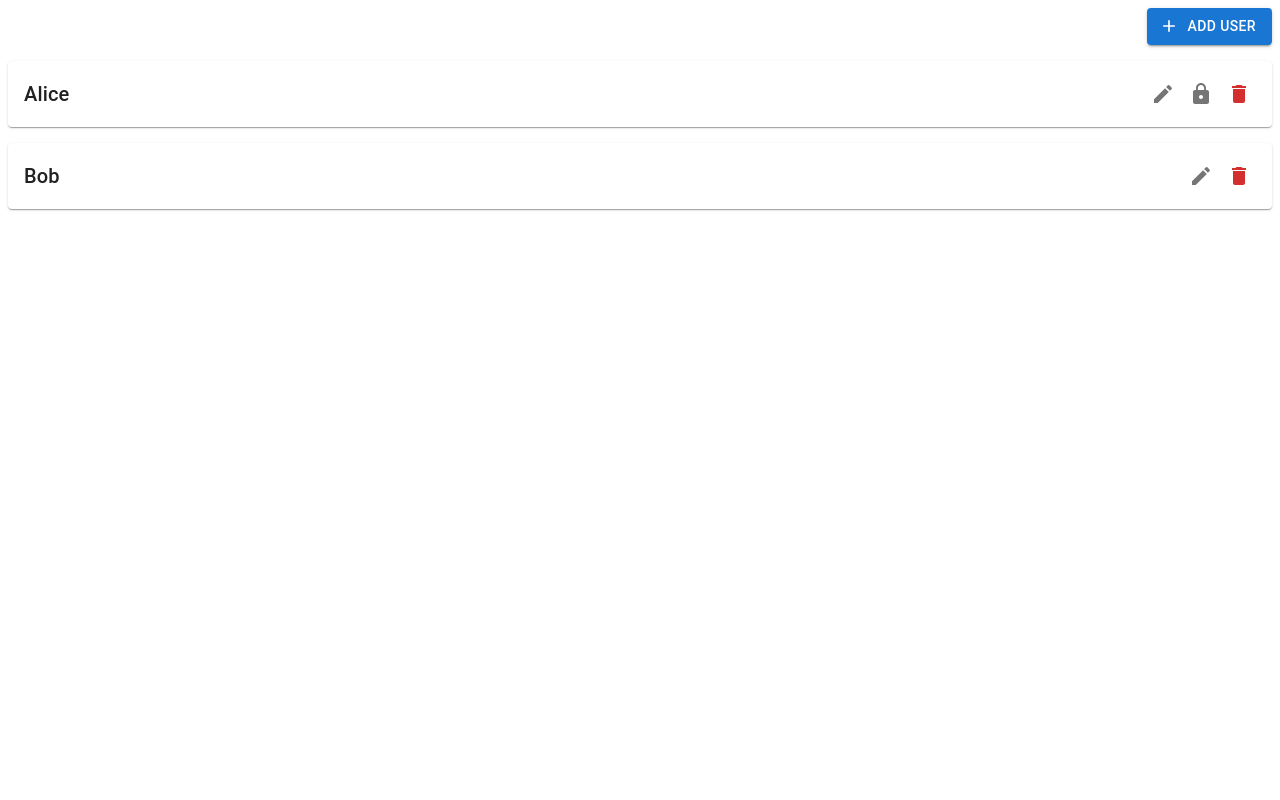
Test: Change Password › opens change password dialog when lock button is clicked
This screenshot has width=1280, height=800.
Click the button named "change password".
click(1201, 94)  # box [1184,76,1218,110]
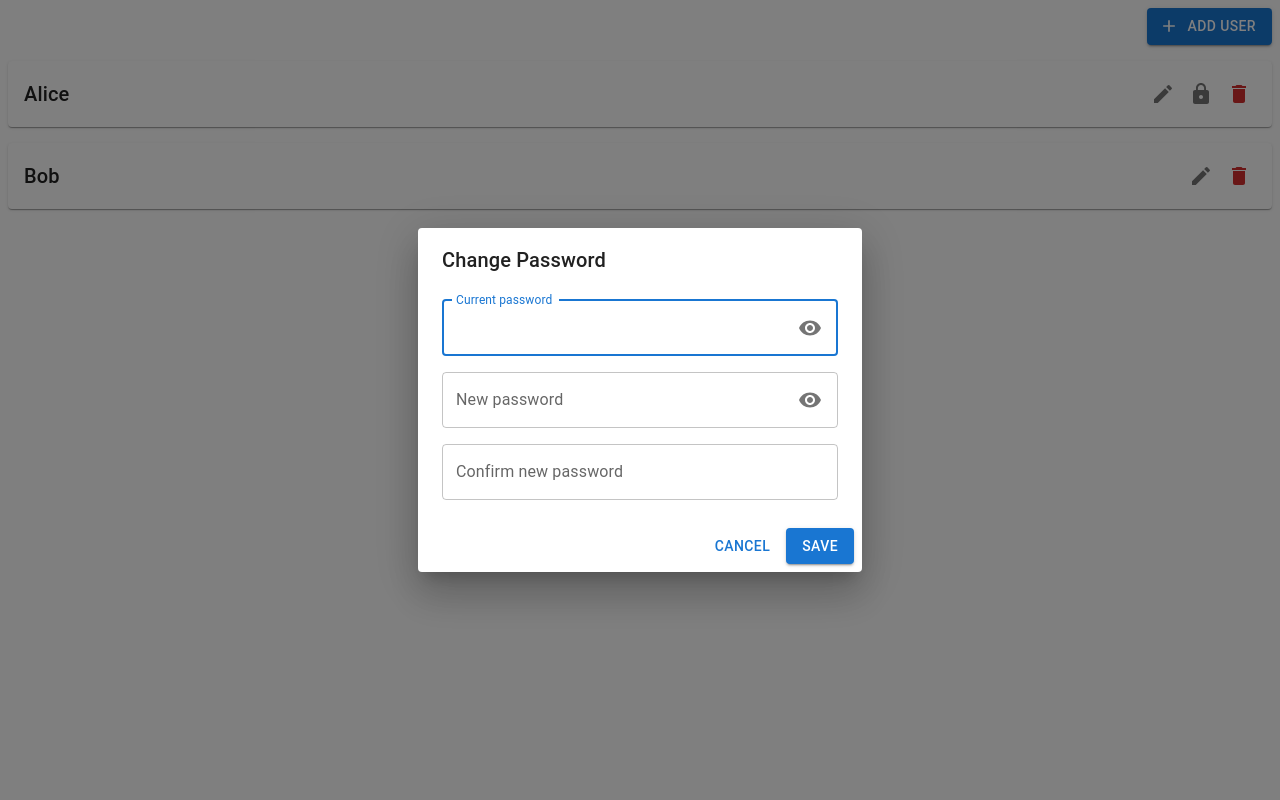
Expected: the heading "Change Password" is shown, [442,248,606,272]
Expected: the password field labelled "Current password" is shown, [442,300,785,356]
Expected: the password field labelled "New password" is shown, [442,372,785,428]
